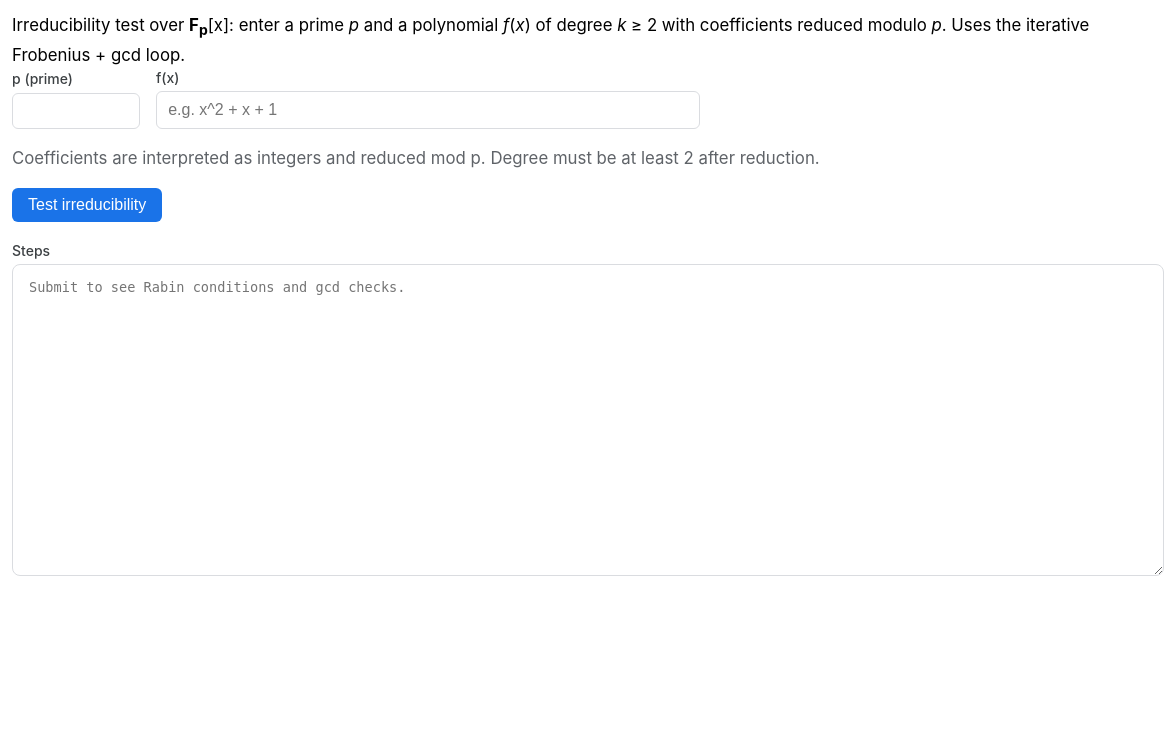
Test: FpIrreduciblePage › shows irreducible for x^2+x+1 over F_2
In the number field named "p prime": {"x": 76, "y": 111} [12,93,140,129], type "2"
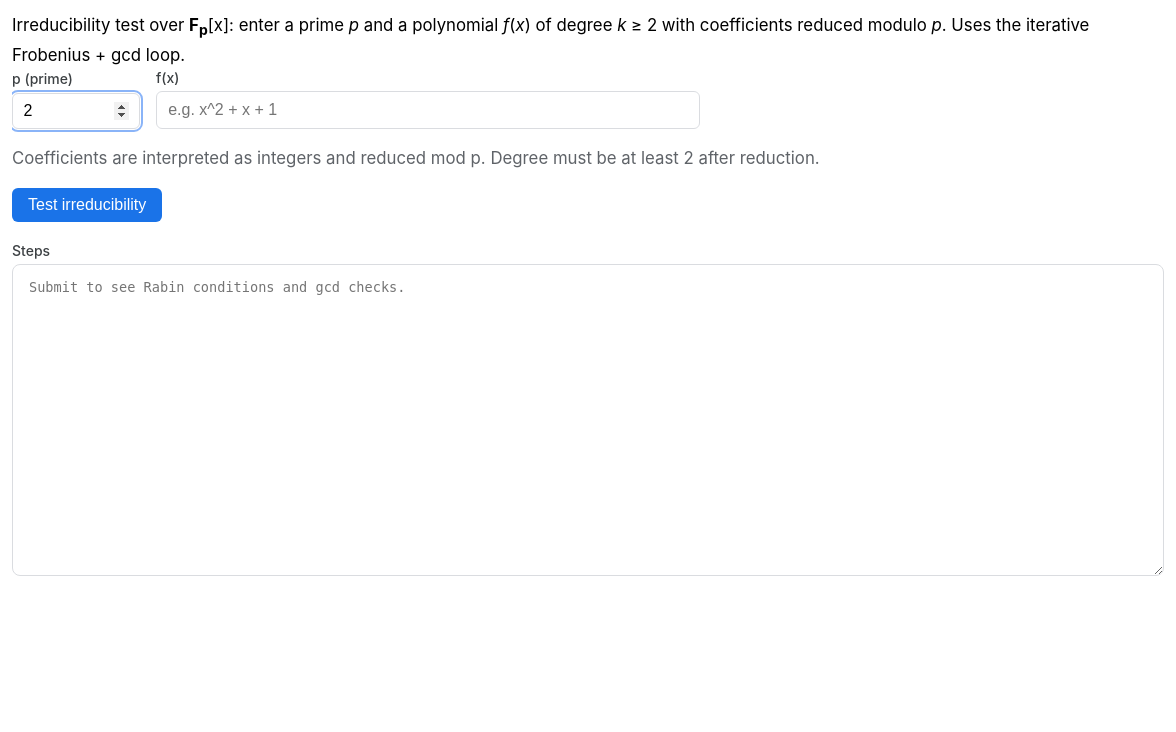
In the field named "f(x) polynomial": {"x": 428, "y": 110} [156,91,700,129], type "x^2+x+1"
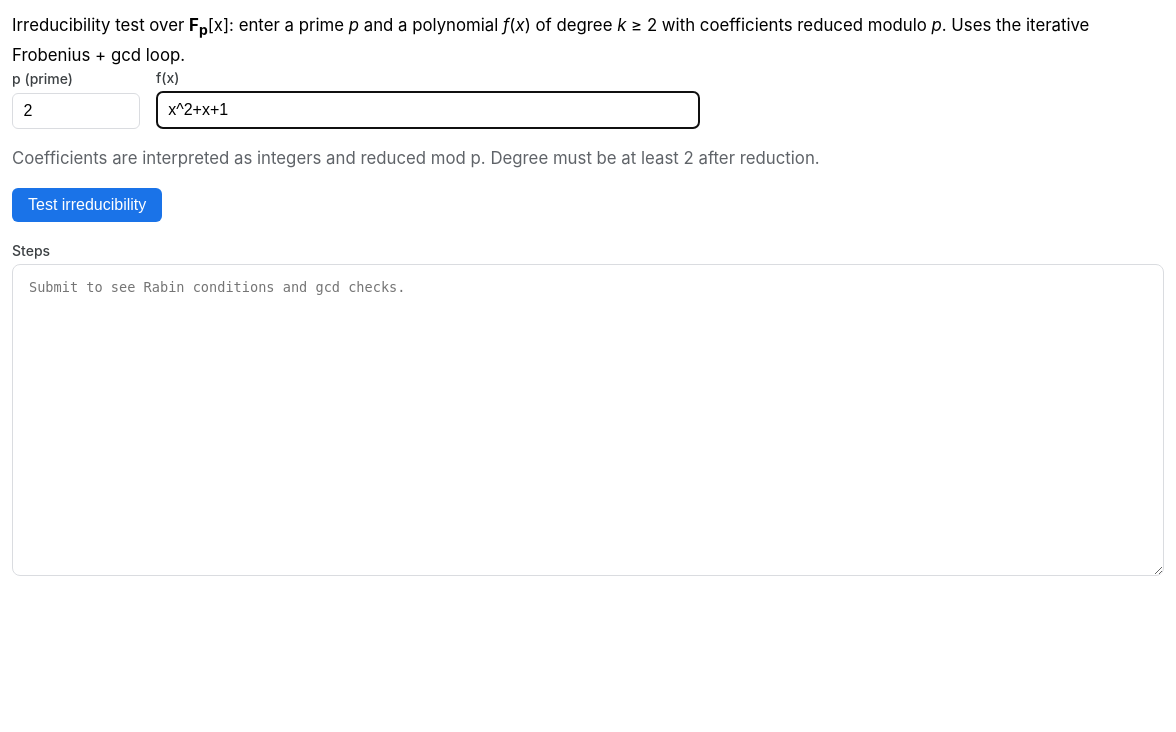
Click the button "Test irreducibility": {"x": 87, "y": 205} [12,188,162,222]
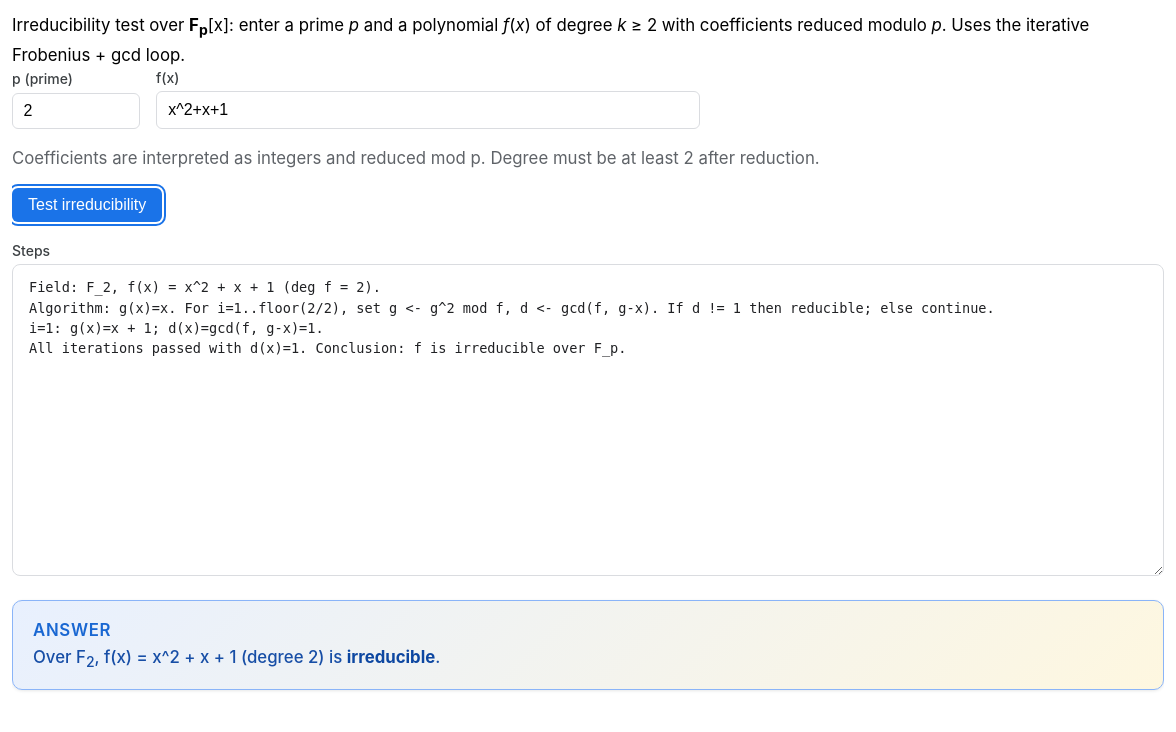
expect the element with test id "fp-irr-answer" shows "irreducible": met, box [347,647,435,667]
